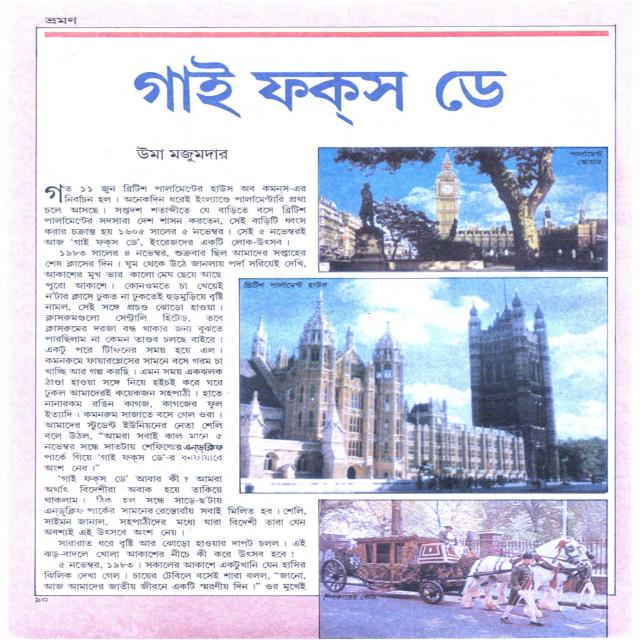caption: (242, 280, 328, 289), (570, 149, 607, 168), (321, 593, 378, 601)
image: (240, 279, 609, 492), (319, 499, 606, 638), (318, 146, 609, 272)
page number: (34, 596, 49, 603)
paragraph: (42, 248, 309, 472), (41, 182, 308, 247), (41, 473, 308, 537), (42, 559, 309, 591), (41, 537, 310, 559), (44, 16, 77, 26)
text: (137, 146, 228, 162)
title: (132, 52, 512, 128)
